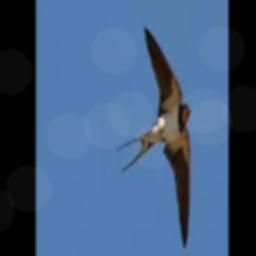Swallow: (117, 29, 191, 249)
